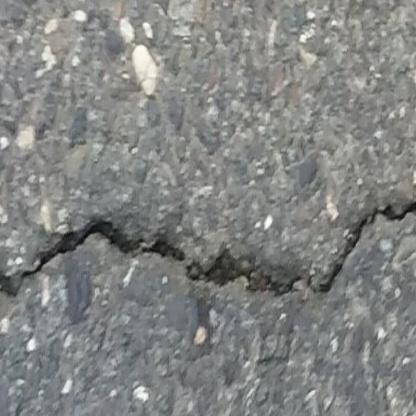Cracks: (0, 179, 416, 368)
